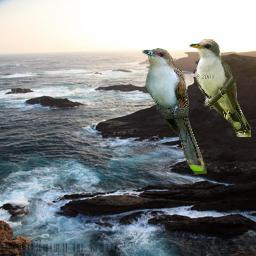Cuckoo: (142, 48, 207, 175), (189, 38, 251, 137)
